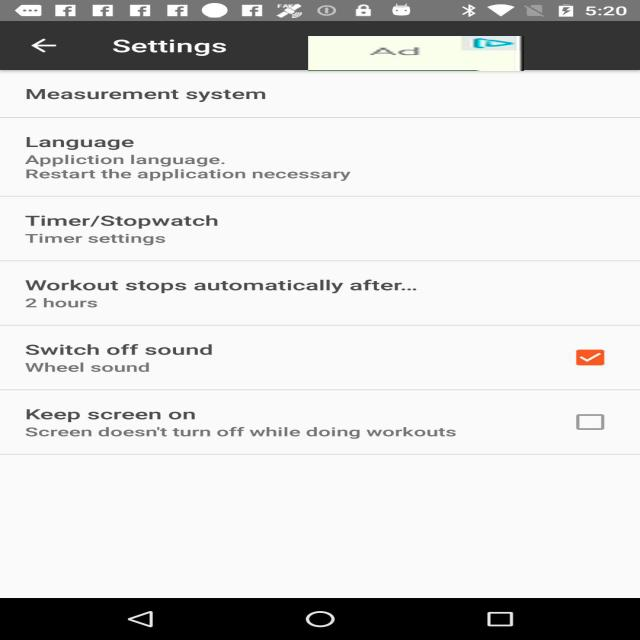sneaking: (308, 36, 524, 71)
